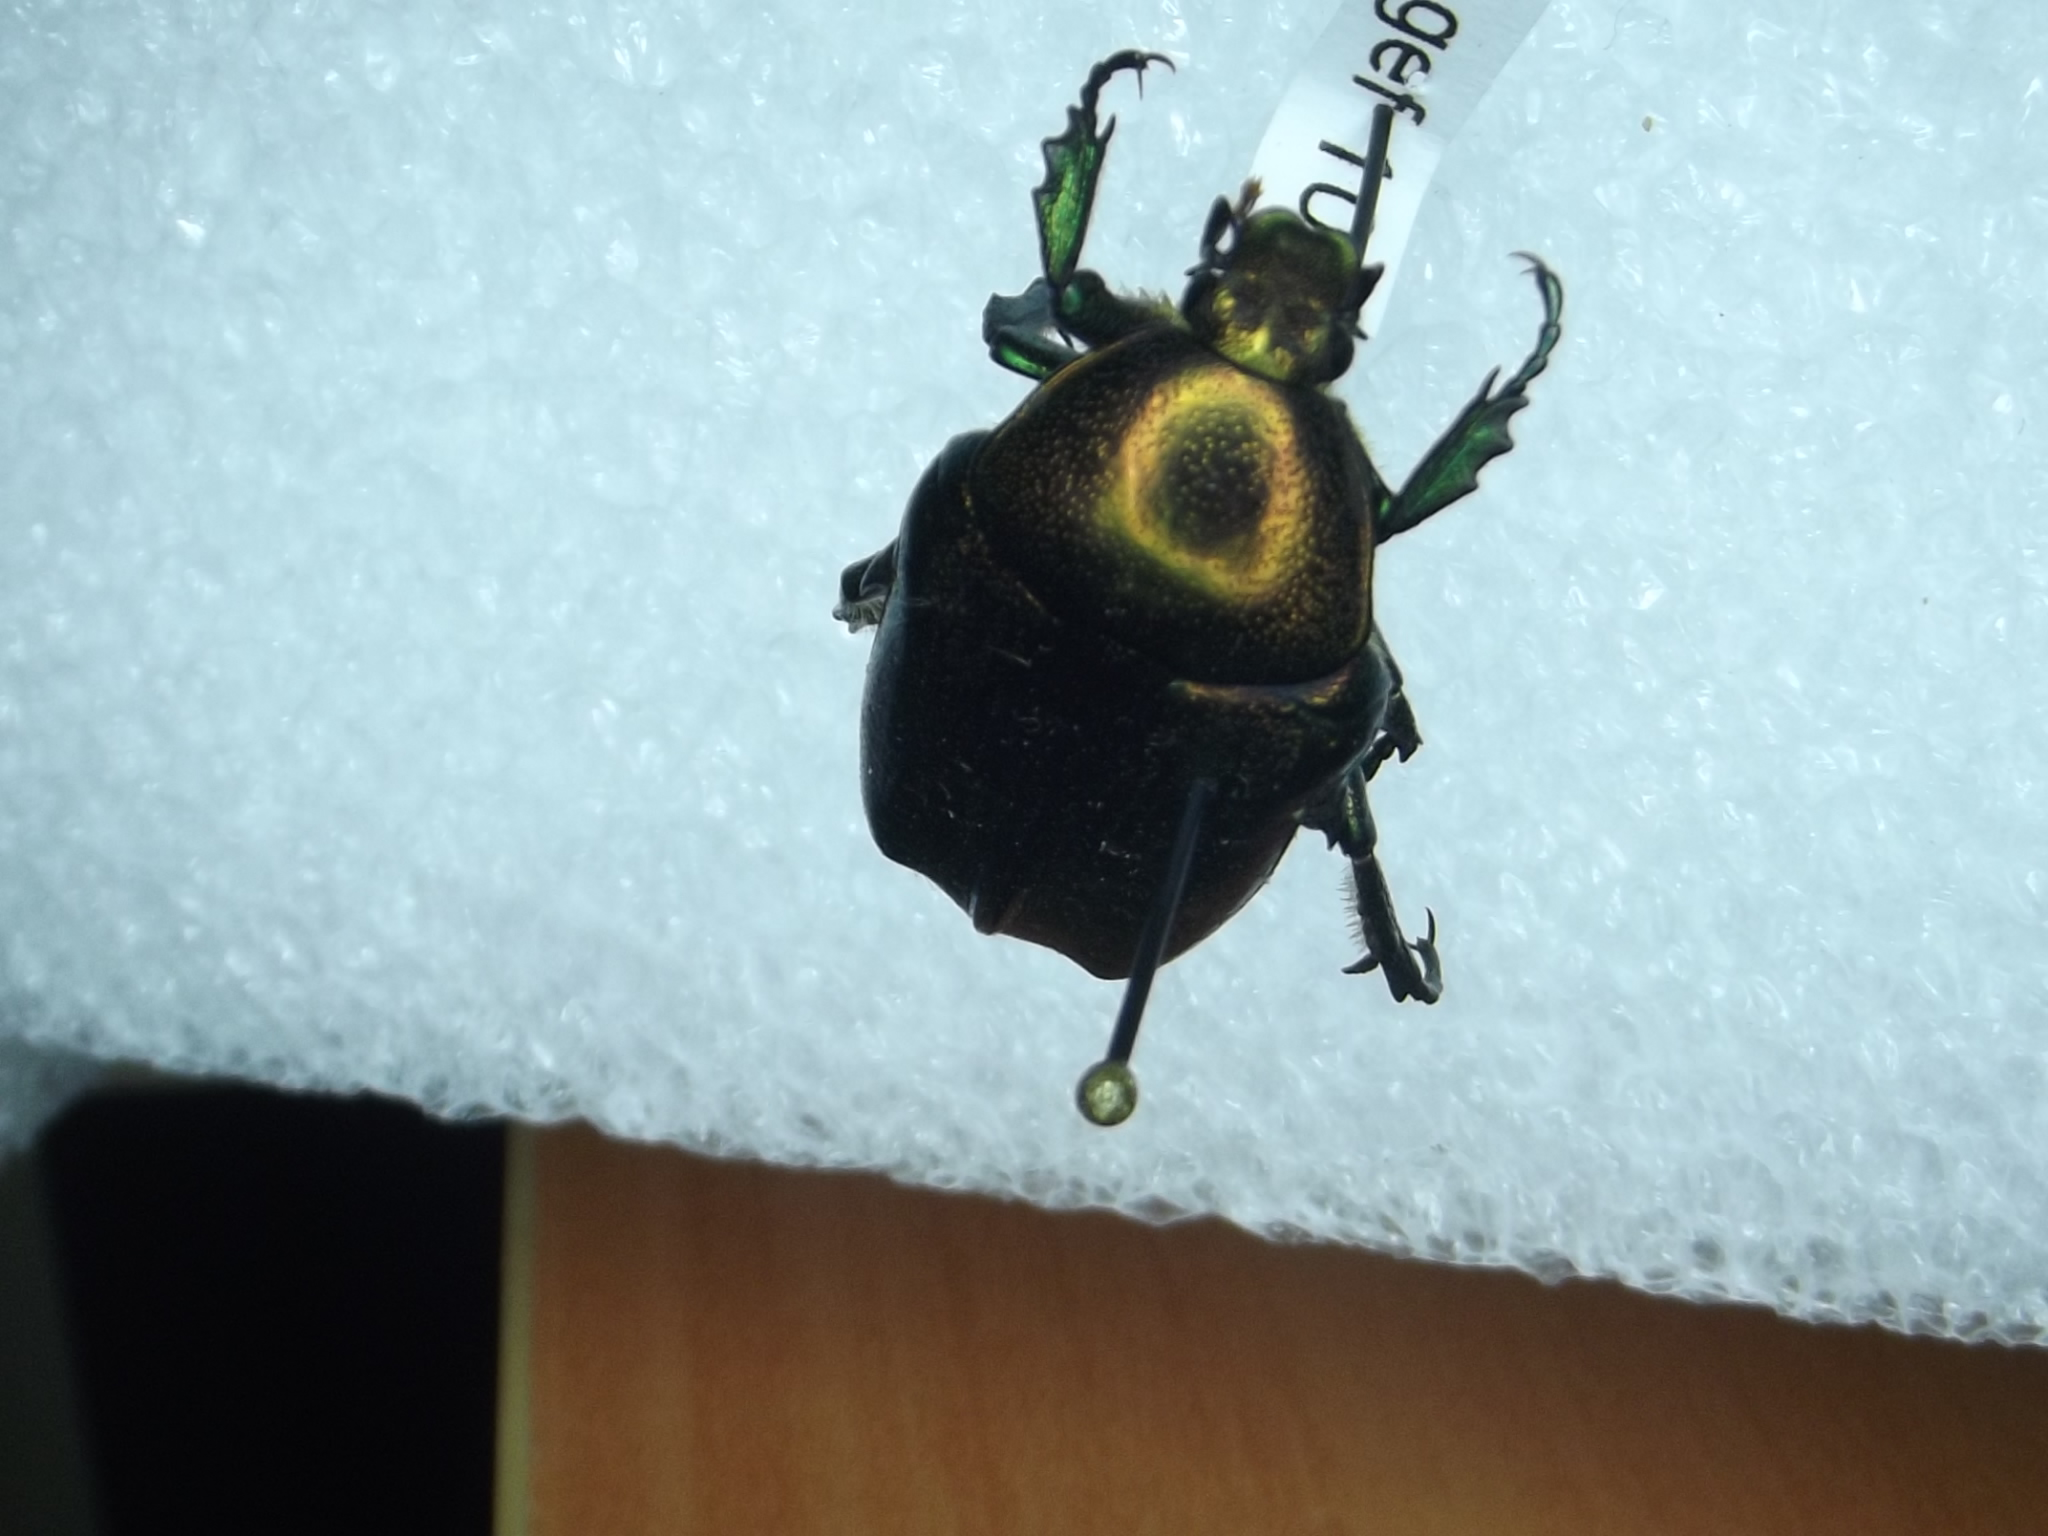Cetonia_aurata: (813, 10, 1584, 1039)
